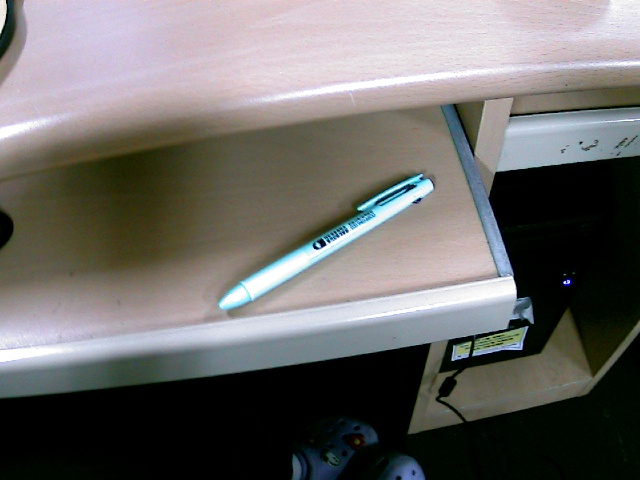pen: (153, 60, 495, 377)
